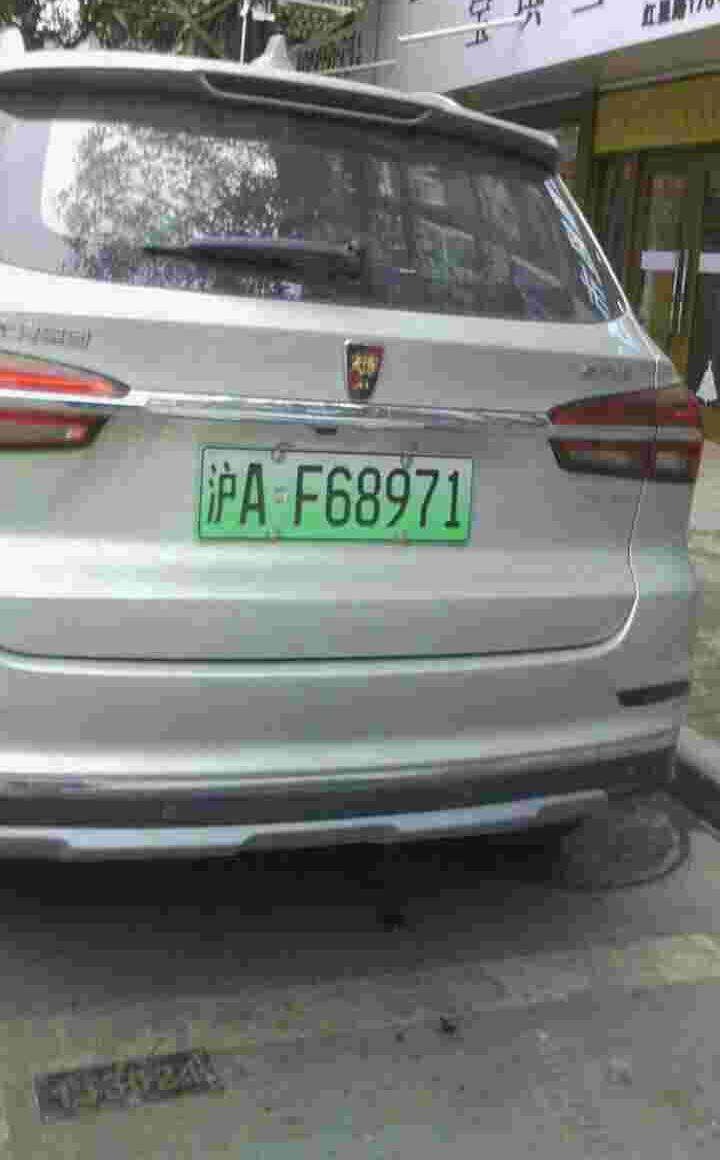car_id: (195, 448, 474, 542)
